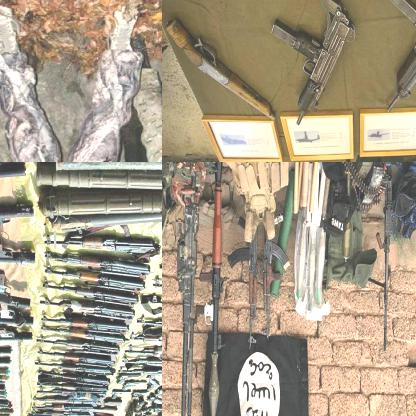pistol: (273, 0, 356, 129), (384, 0, 415, 116)
rifle: (166, 22, 277, 122), (197, 162, 228, 415), (169, 191, 197, 415), (374, 171, 396, 352), (228, 215, 257, 348), (265, 214, 291, 338), (40, 296, 141, 322), (43, 234, 161, 254), (42, 282, 140, 306), (41, 313, 131, 335), (41, 324, 130, 344), (36, 358, 118, 375), (39, 366, 115, 384), (43, 256, 152, 268), (37, 276, 150, 287), (123, 348, 161, 371), (37, 350, 124, 360), (131, 333, 161, 358), (139, 317, 161, 340)
